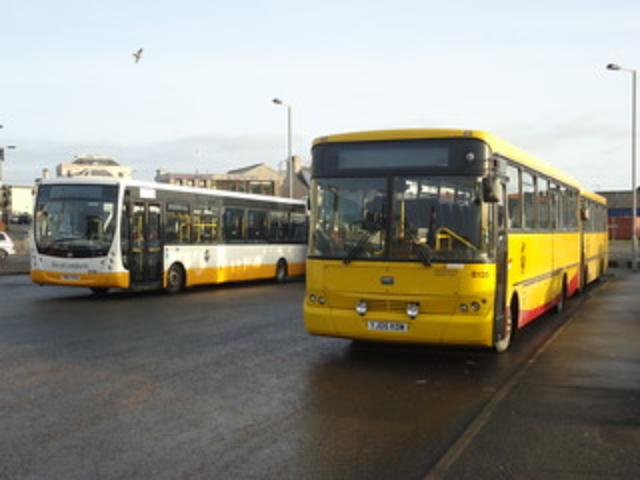bus: (302, 128, 610, 354), (28, 178, 306, 294)
